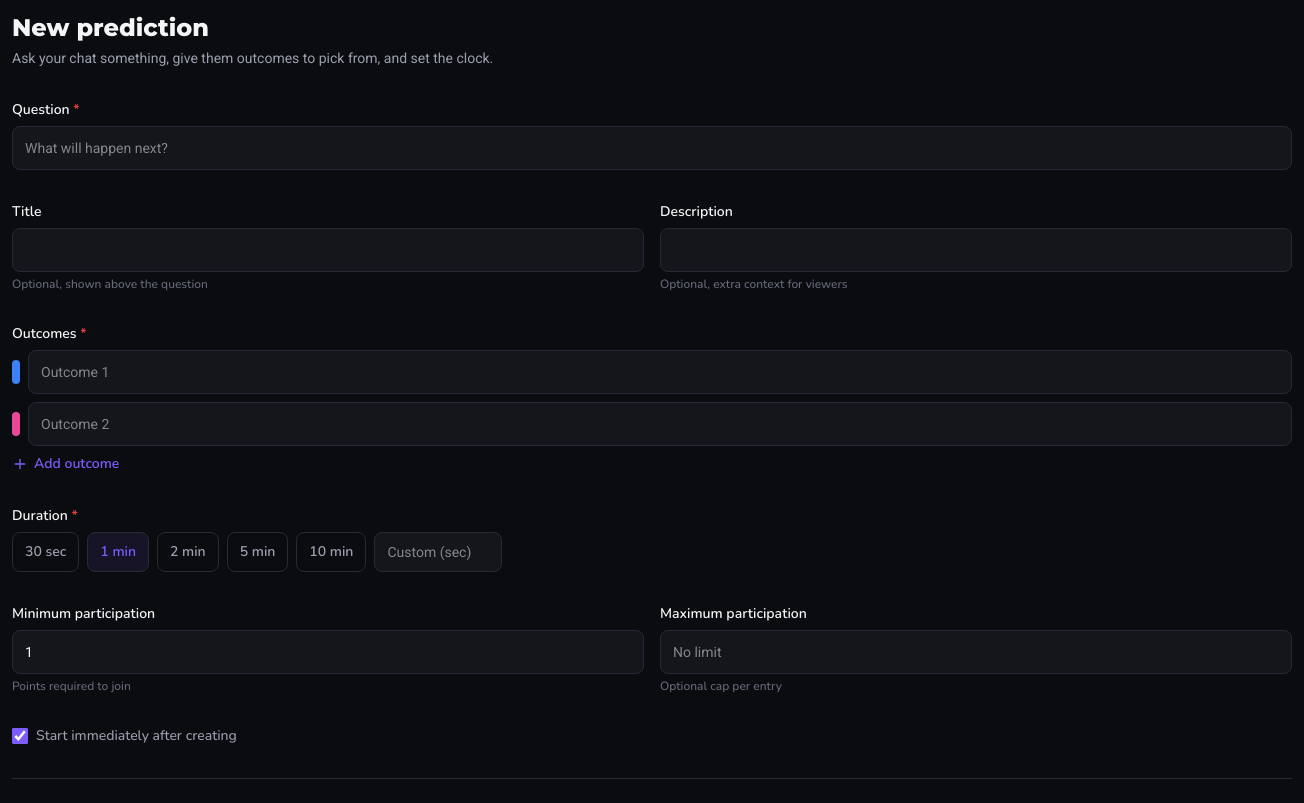
Test: PredictCreate › supports adding a third and fourth outcome, up to the max of four
This screenshot has width=1304, height=803.
Click the button "Add outcome": (66,464) [12, 454, 119, 474]
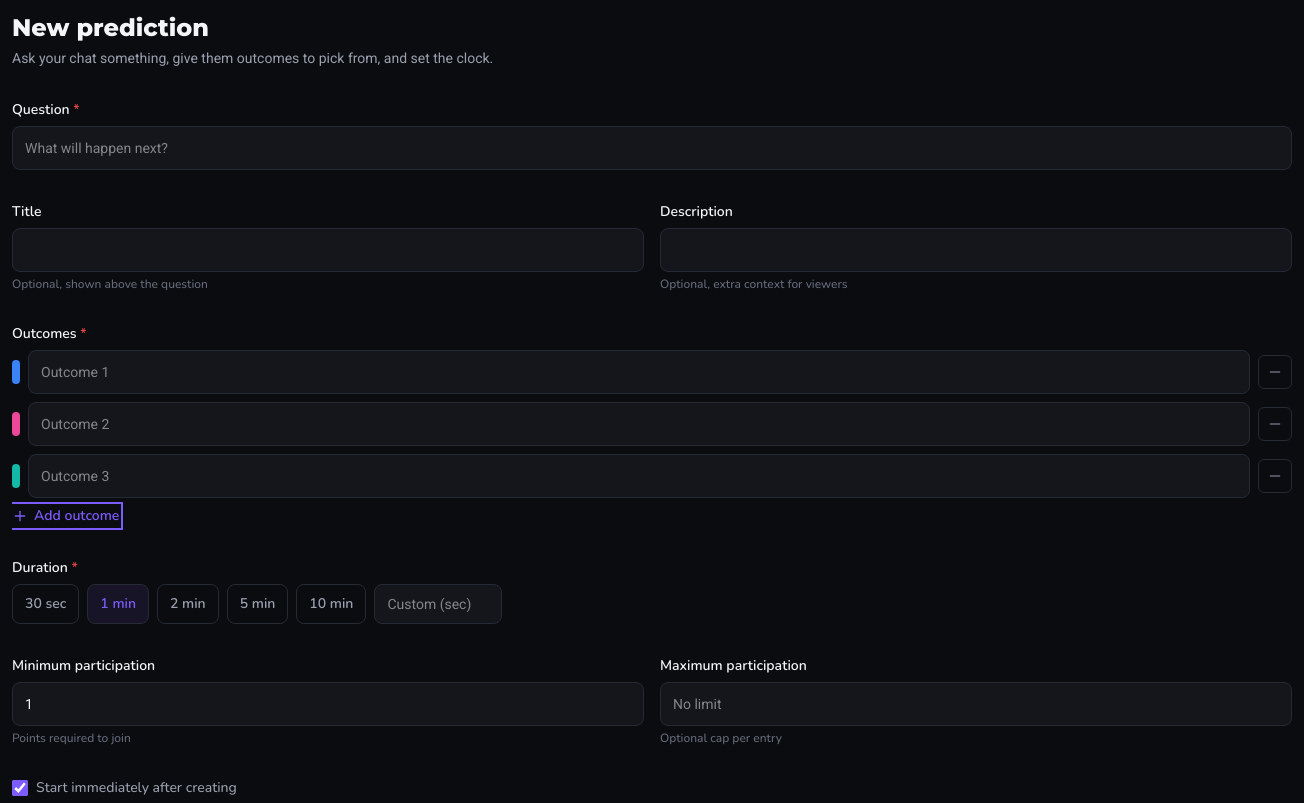
Expected: the field with placeholder "Outcome 3" is shown, [28, 454, 1250, 498]
Click the button "Add outcome": (66,516) [12, 506, 119, 526]
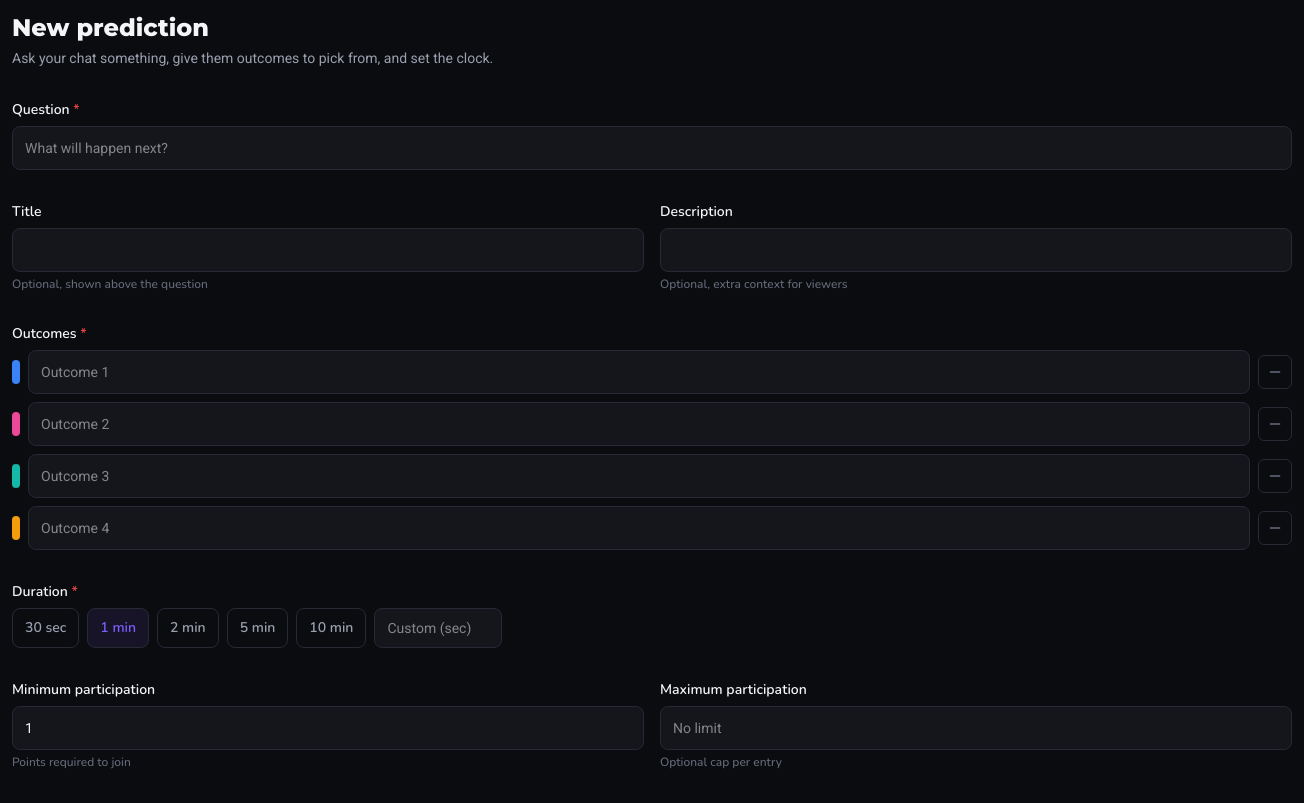
Expected: the field with placeholder "Outcome 4" is shown, [28, 506, 1250, 550]
Expected: the button "Add outcome" is gone
